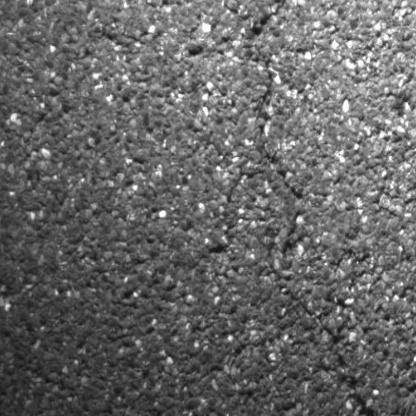Cracks: (241, 0, 385, 416)
